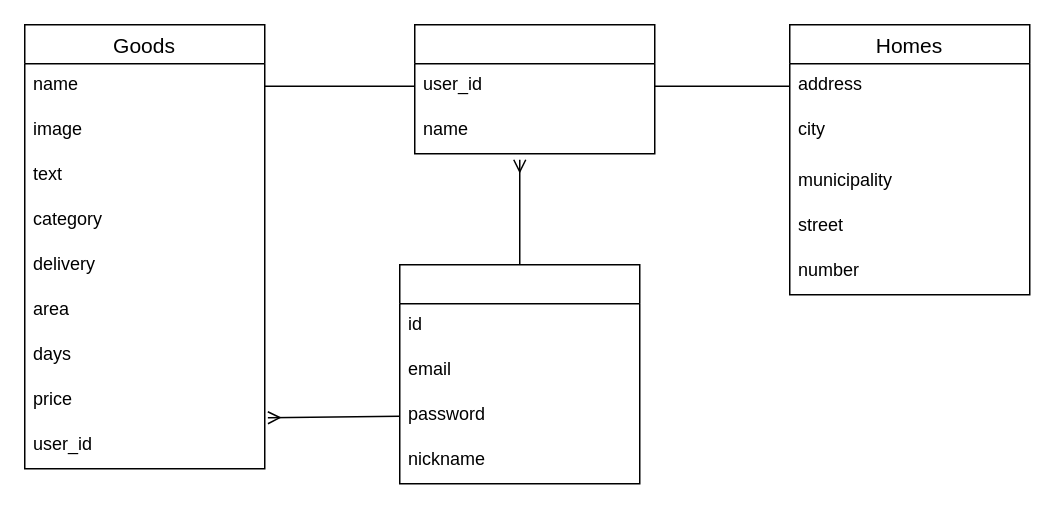
This 1055x509 diagram has some shape labels left out. Each missing label, with the box of its shape:
Buys: (413, 23, 655, 154)
Users: (398, 263, 640, 484)
